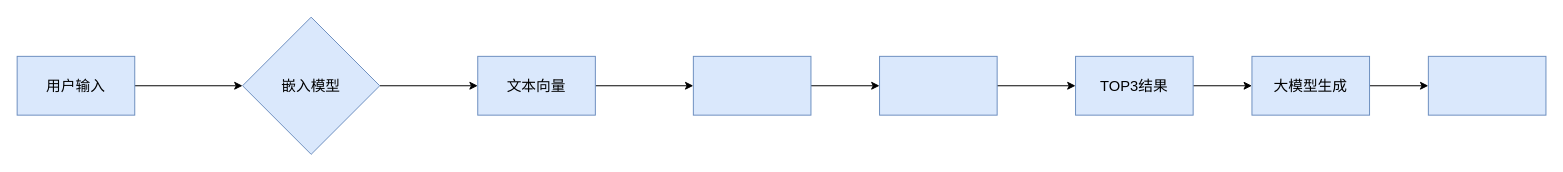
Some shapes in this 1563 by 172 pixel diagram are drawn without their labels. The centre of each missing label's shape, as x and y in pixels:
余弦相似度计算: point (938, 85)
向量数据库: point (751, 85)
最终回答: point (1486, 85)
